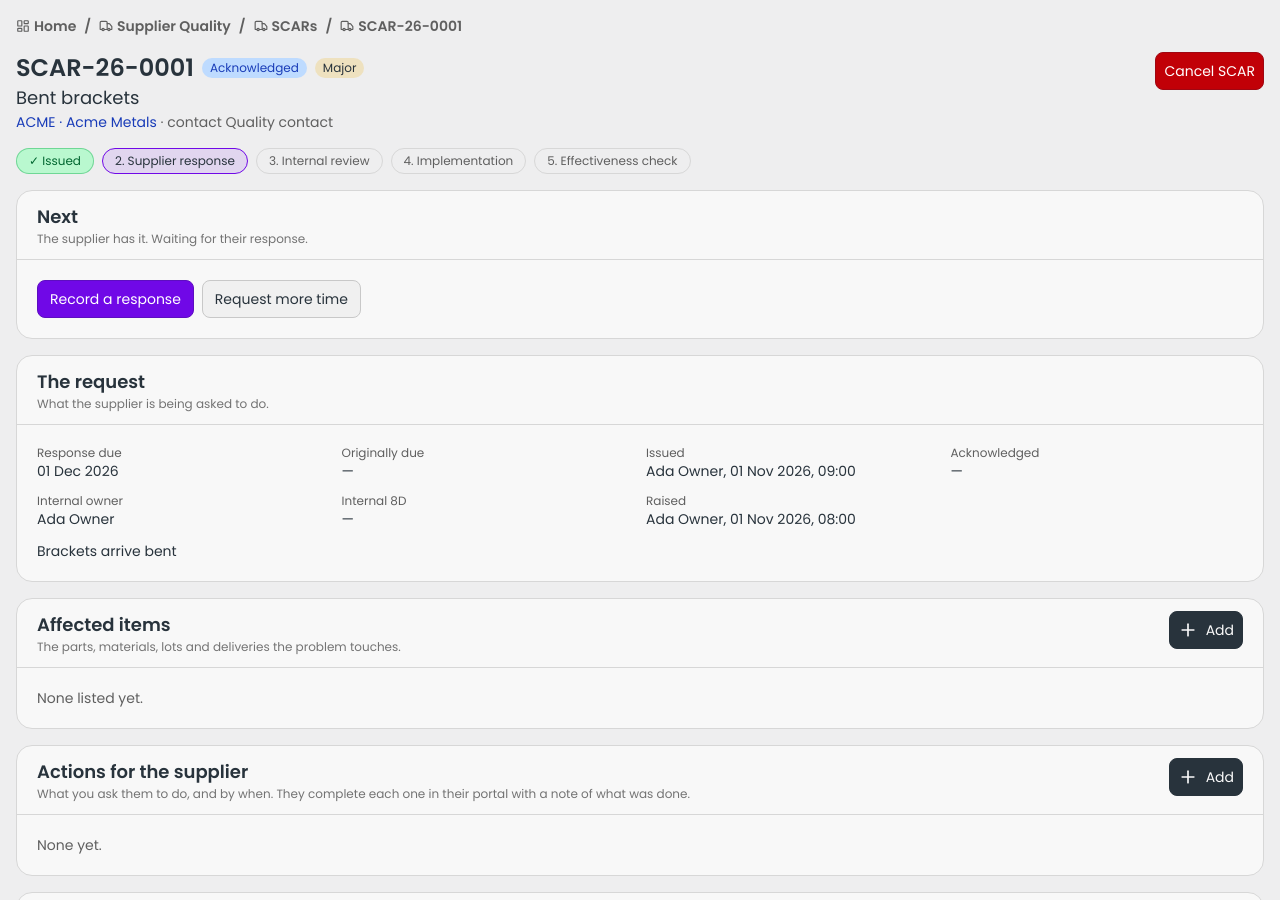
Test: SCAR page › a response is recorded and waits for review; it does not close the SCAR
Click the button "Record a response" at (115, 299), box [37,280,194,318]
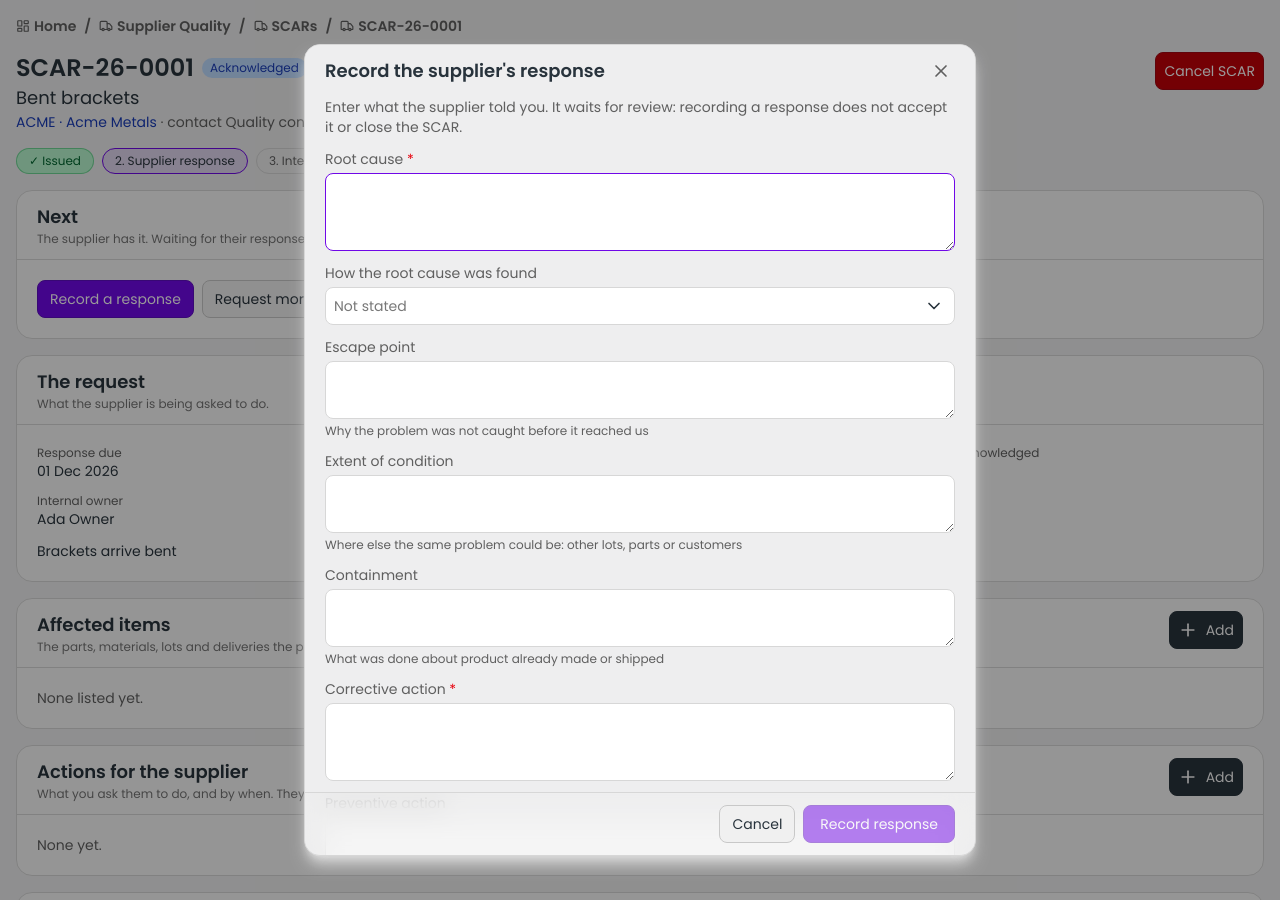
Expected: the button "Record response" is disabled, [803,805,955,843]
Type "Jig worn" into the text box labelled "Root cause" at (640, 212), box [325,173,955,251]
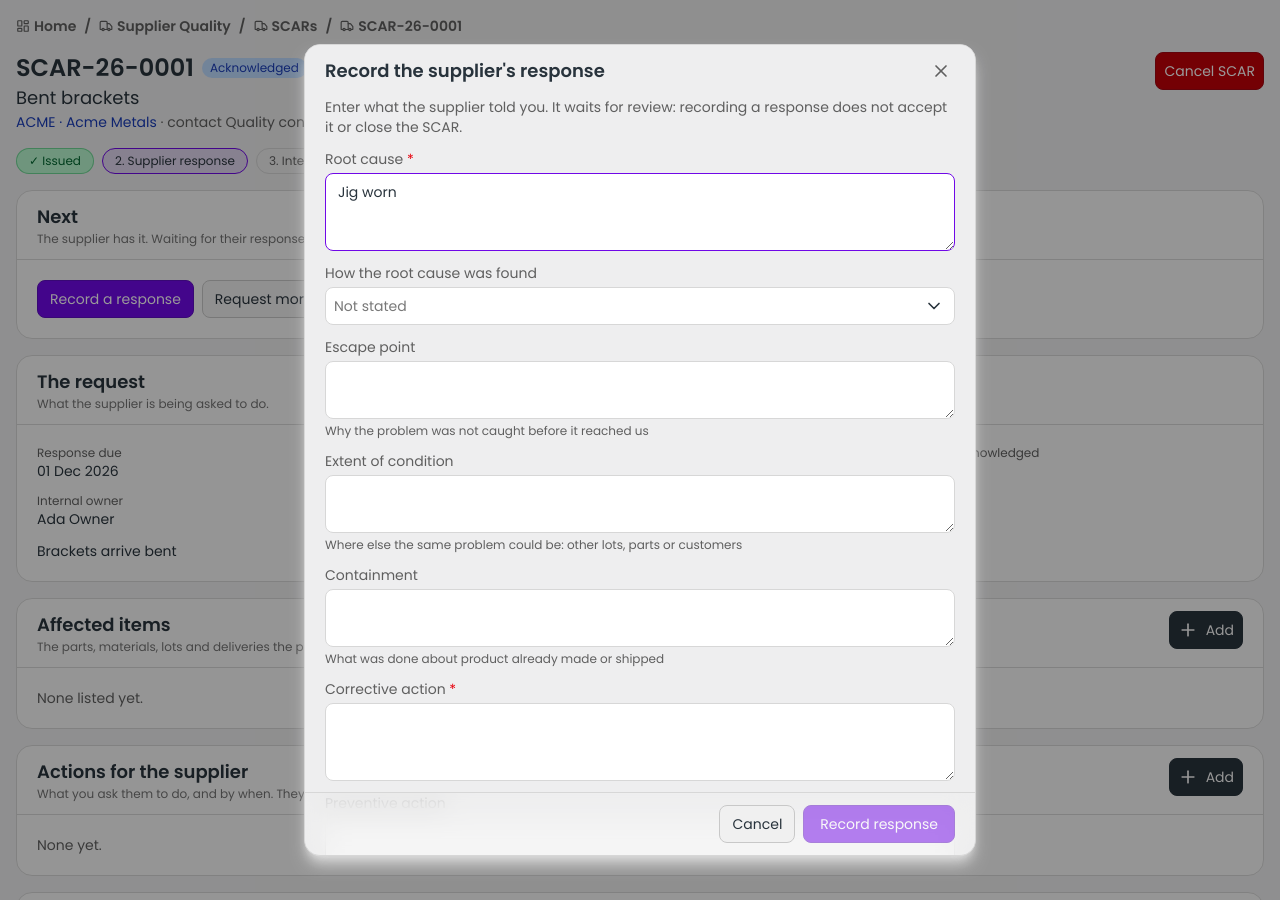
Type "Replace the jig" into the text box labelled "Corrective action" at (640, 742), box [325,703,955,781]
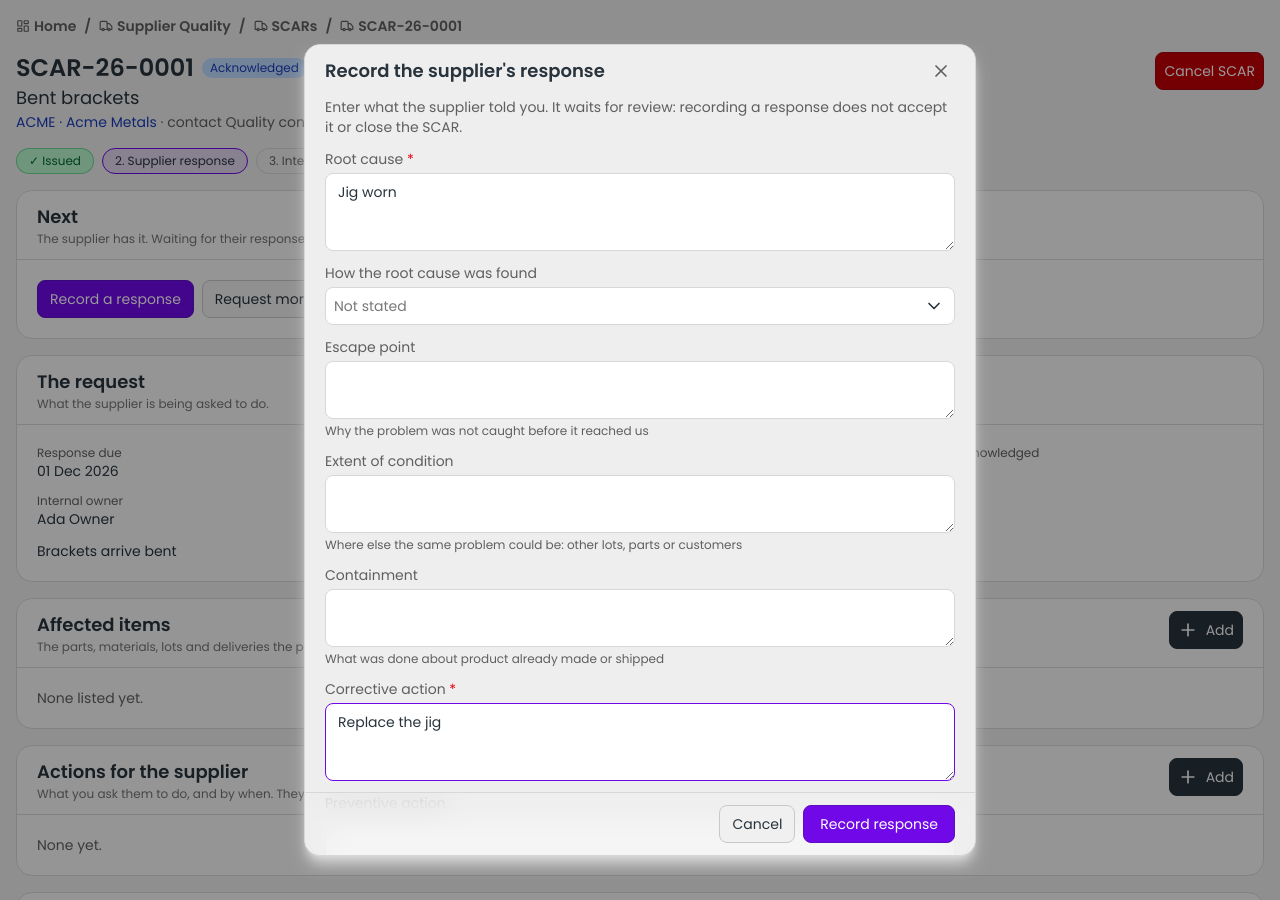
Click the button "Record response" at (879, 824), box [803,805,955,843]
(page scrolled)
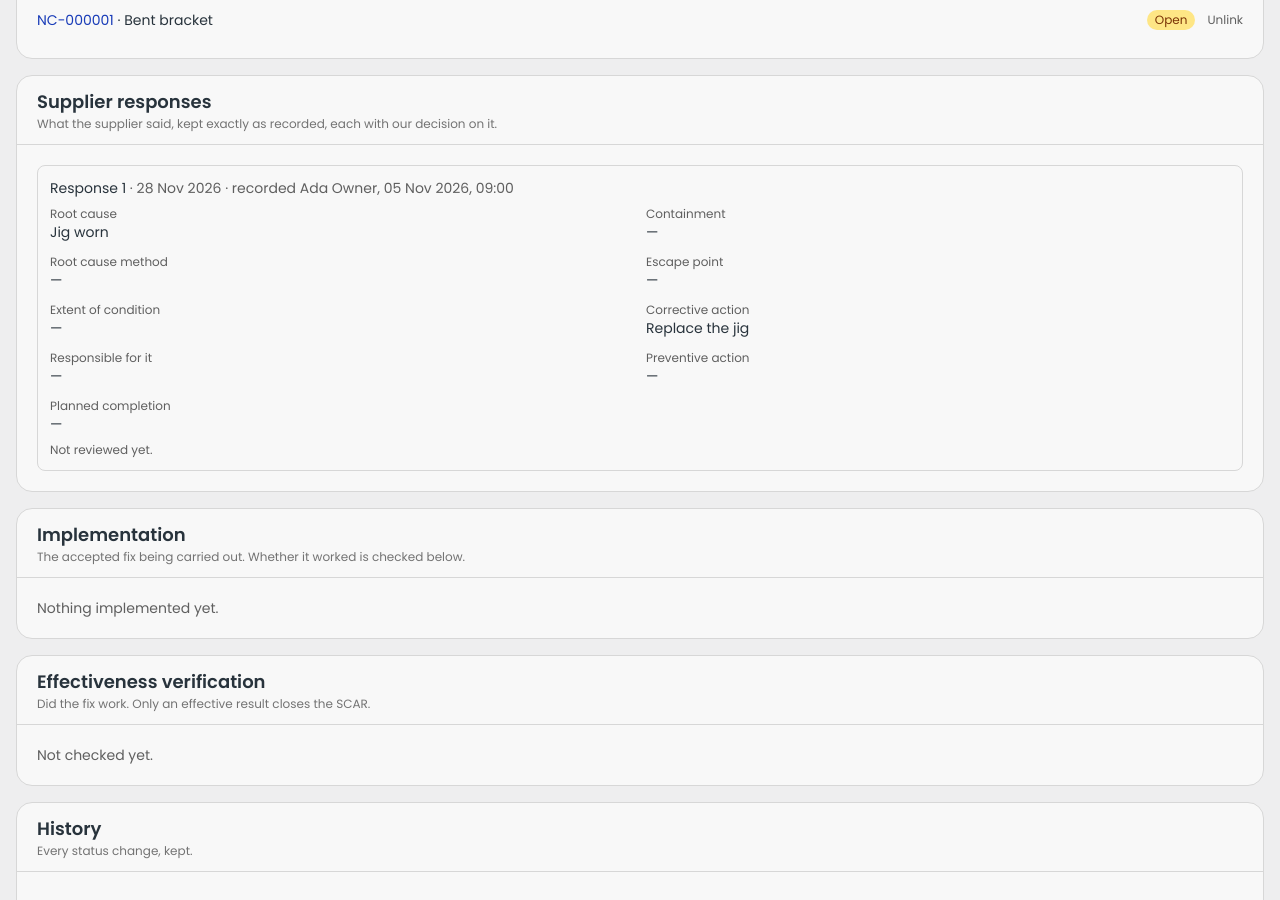
Expected: the text "Not reviewed yet." is shown, [50,441,152,458]
